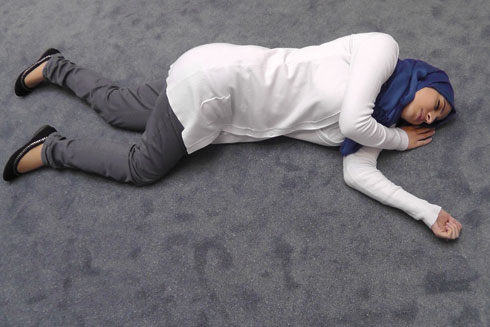collapsed: (3, 4, 475, 250)
